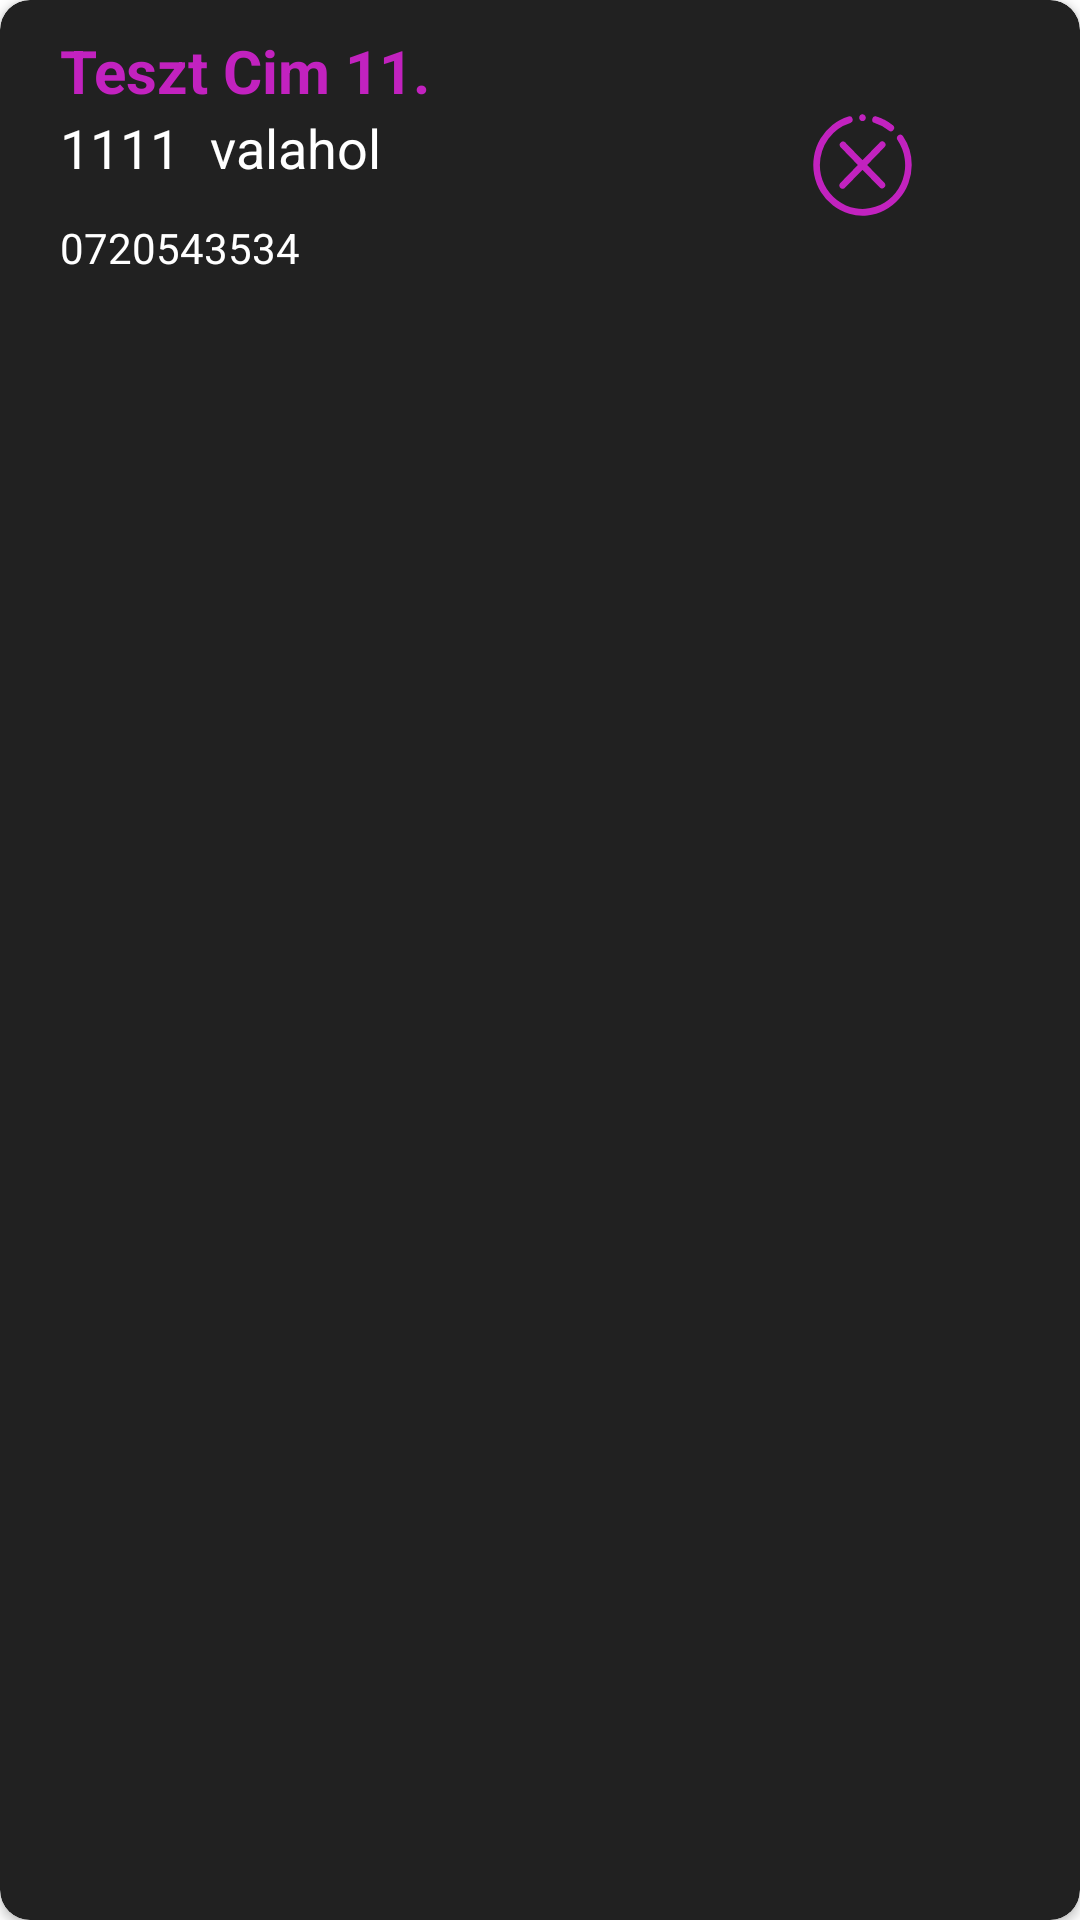

Named icons in this screenshot (1080w x 1920h) and their bounding boxes, (x1, y1, x2, y2):
delete: (813, 114, 912, 216)
